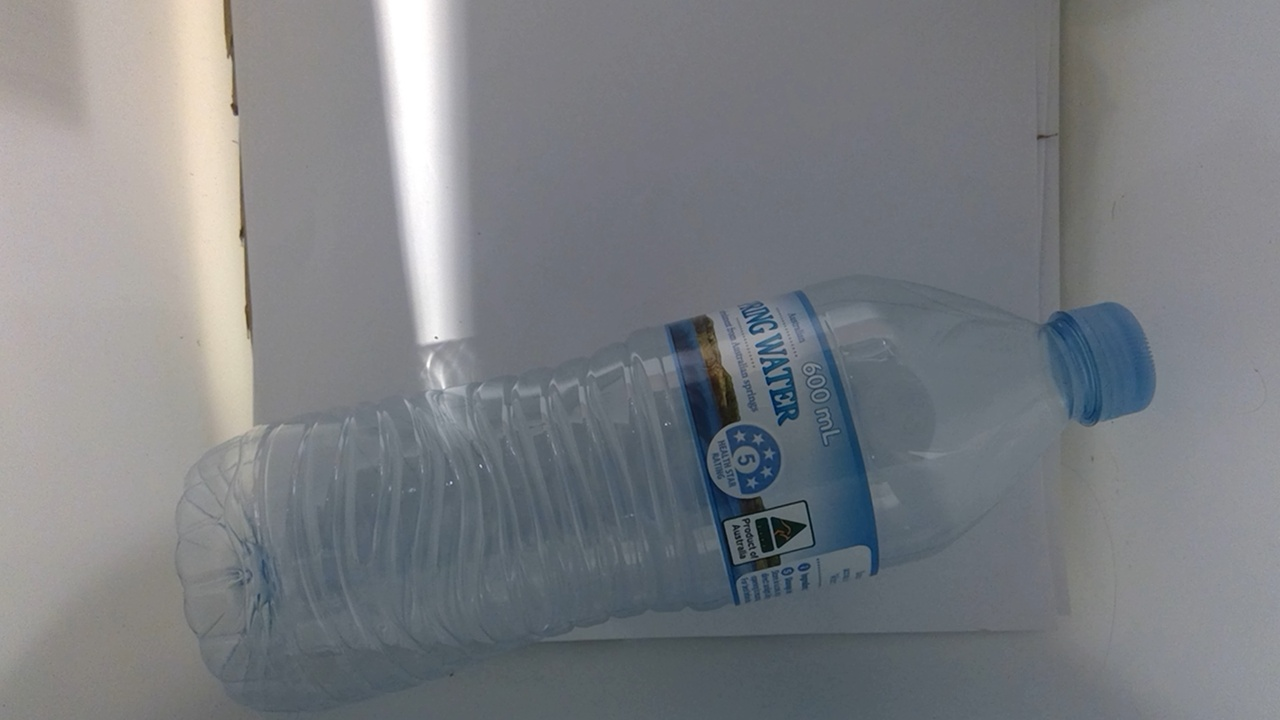bottle: (173, 268, 1165, 714)
